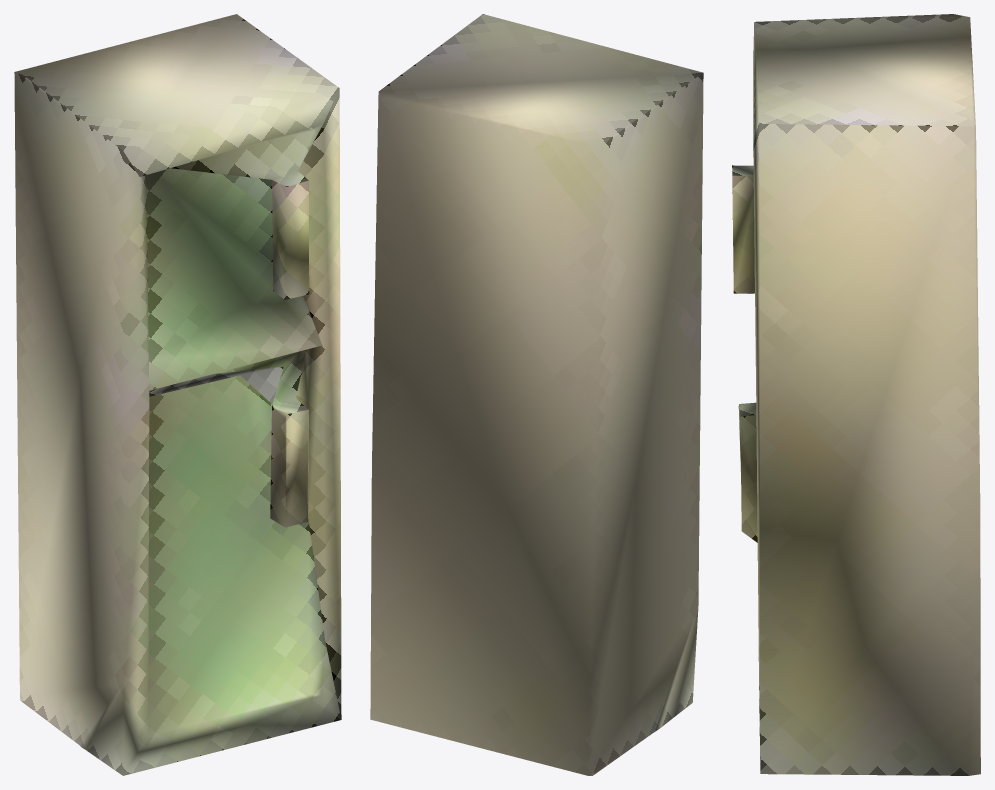
File: 3D_Dollhouse_Refrigerator-low.glb
The picture shows the model from 3 angles, left to right: view 1: azimuth 30°, elevation 25°; view 2: azimuth 150°, elevation 25°; view 3: azimuth 270°, elevation 25°; orthographic projection. The views are drawn at different scales.
Parts seen in each view (by area): view 1: 3D_Dollhouse_Refrigerator; view 2: 3D_Dollhouse_Refrigerator; view 3: 3D_Dollhouse_Refrigerator.
Part boxes in pixels (x1,y1,x2,y2): 3D_Dollhouse_Refrigerator: (14,14,341,775); 3D_Dollhouse_Refrigerator: (370,14,703,775); 3D_Dollhouse_Refrigerator: (732,14,980,775).
Size of the model in its own units: 0.079 by 0.209 by 0.072.
1 material, 1 textured.
